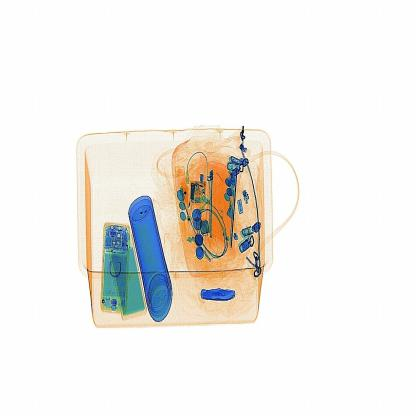knife: (198, 284, 240, 306)
